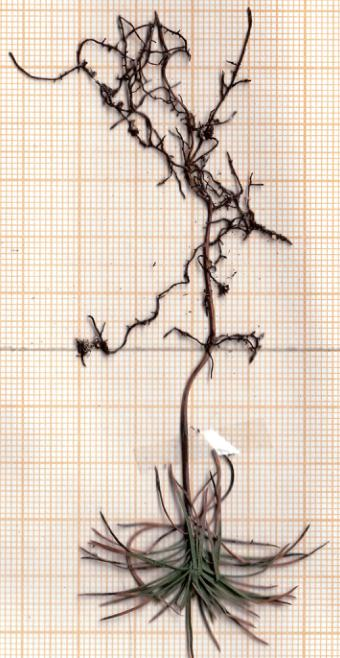flower: (75, 492, 332, 658)
root: (3, 3, 298, 373)
stem: (172, 364, 212, 509)
